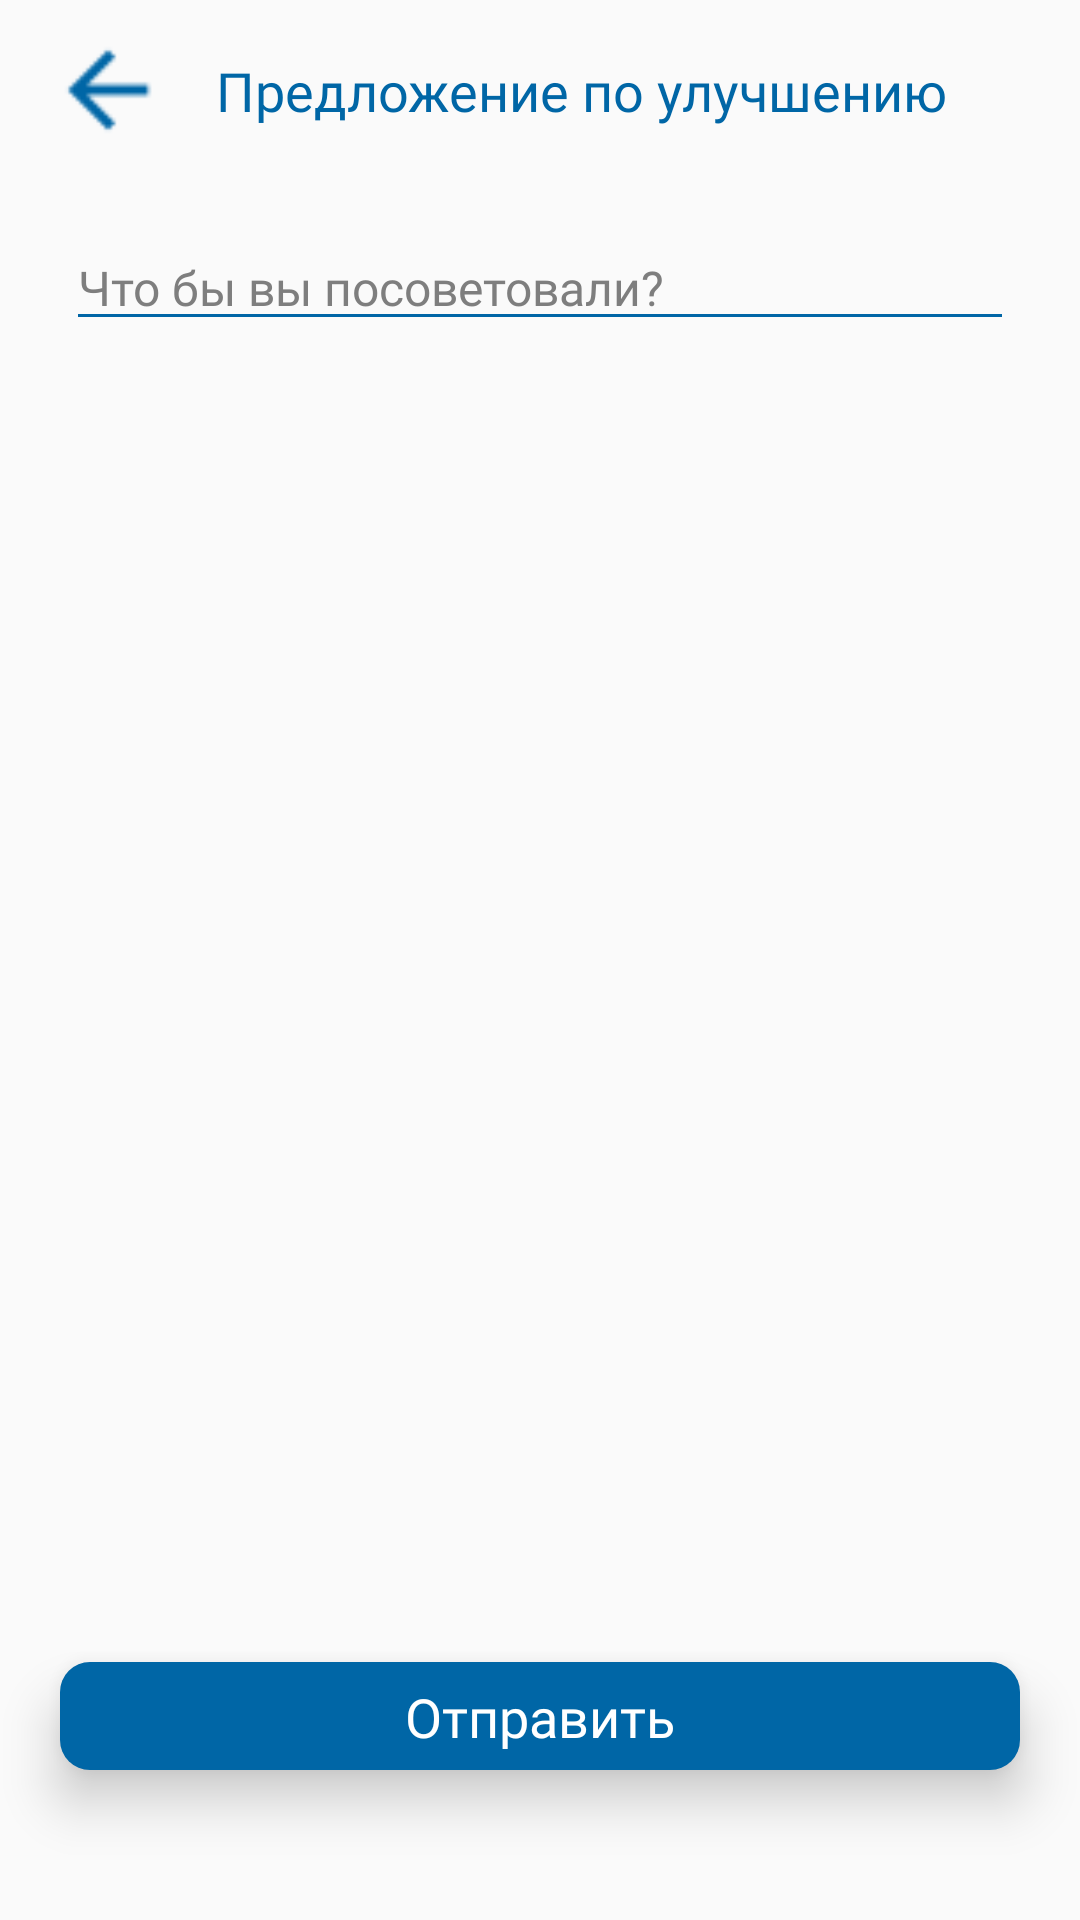

Icon bounding boxes for this 1080×1920 phone screenshot, format (x1, y1, x2, y2):
arrow back: (68, 50, 151, 130)
